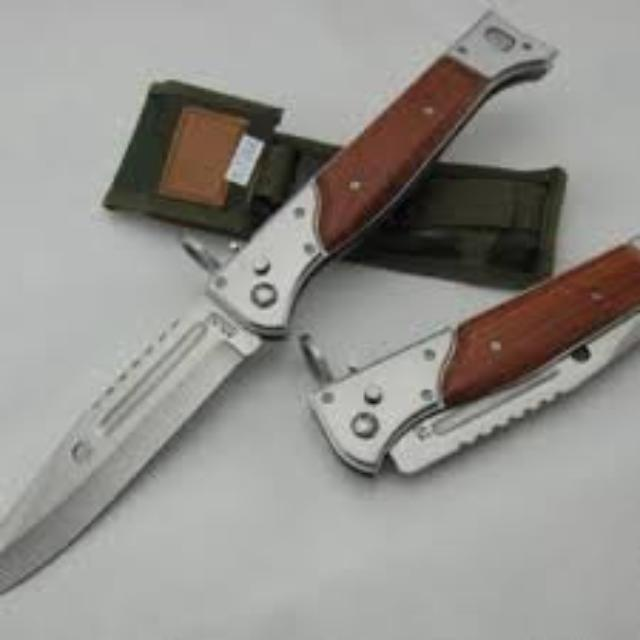knife: (0, 0, 558, 600)
